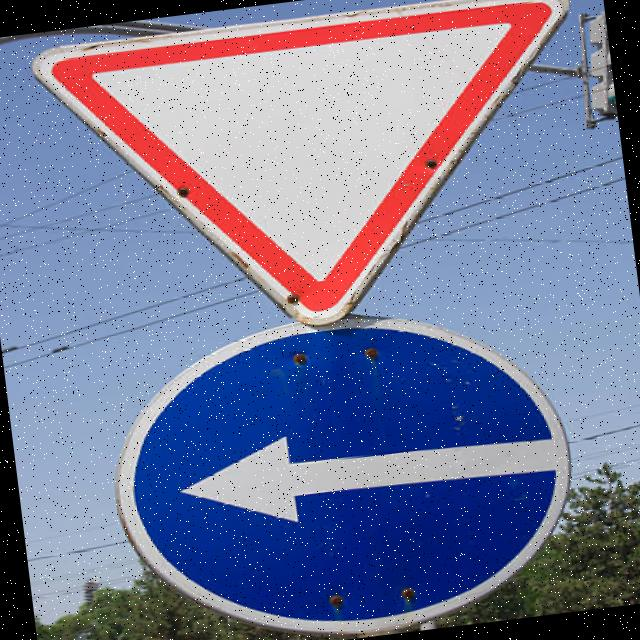give_way: (12, 0, 614, 357)
